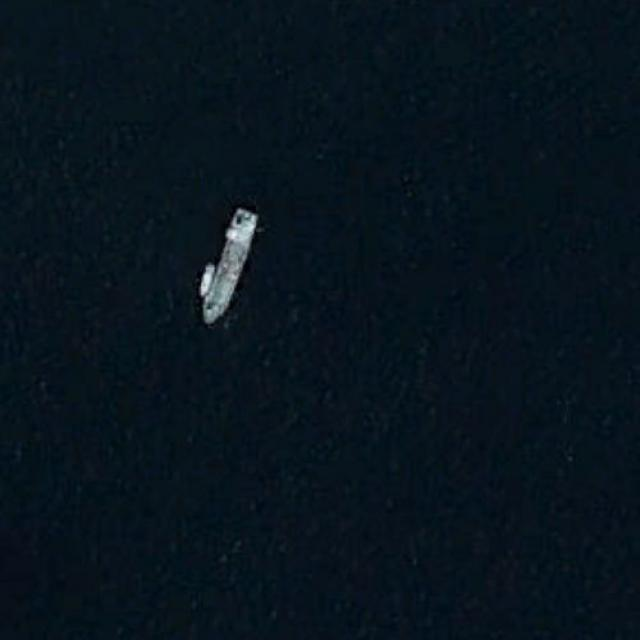ship: (202, 208, 259, 326)
